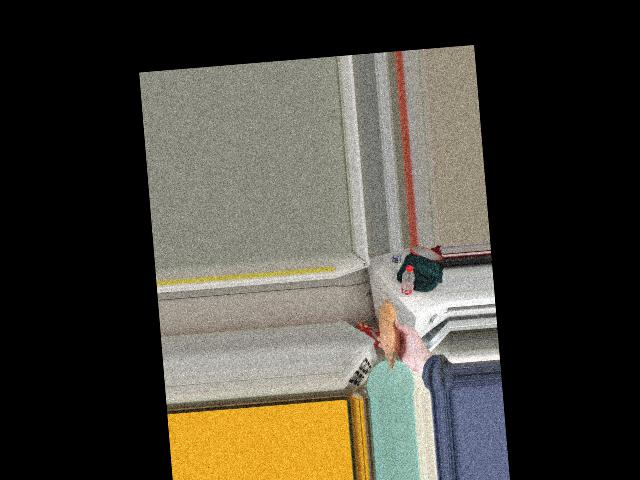sweet_potato: (380, 308, 400, 361)
